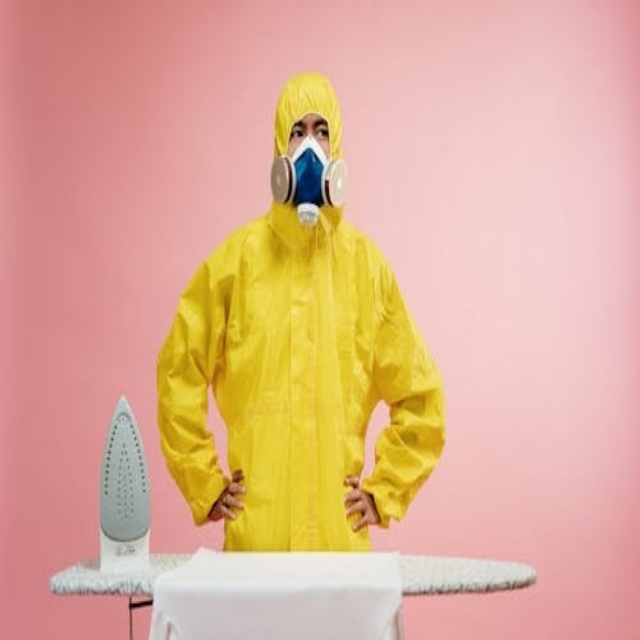Mascara: (272, 139, 346, 219)
Sin_gafas: (285, 115, 335, 154)
Sin_guantes: (342, 474, 381, 532), (207, 469, 244, 523)
